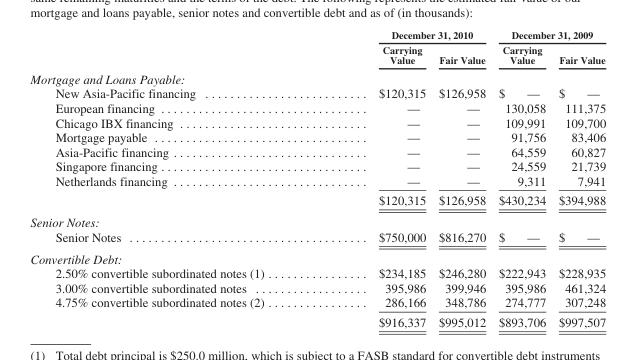table: (29, 28, 605, 328)
table column: (29, 28, 320, 328), (320, 28, 431, 328), (431, 28, 491, 328), (491, 28, 551, 328), (551, 28, 605, 328)
table column header: (29, 28, 605, 68)
table projected row header: (29, 211, 605, 229), (29, 247, 605, 265), (29, 68, 605, 85)
table row: (29, 42, 605, 68), (29, 190, 605, 211), (29, 211, 605, 229), (29, 229, 605, 247), (29, 247, 605, 265), (29, 68, 605, 85), (29, 173, 605, 190), (29, 294, 605, 311), (29, 311, 605, 328), (29, 85, 605, 100), (29, 114, 605, 129), (29, 129, 605, 144), (29, 158, 605, 173), (29, 265, 605, 280), (29, 28, 605, 42), (29, 100, 605, 114), (29, 144, 605, 158), (29, 280, 605, 294)
table spanning cell: (320, 28, 491, 42), (491, 28, 605, 42)
